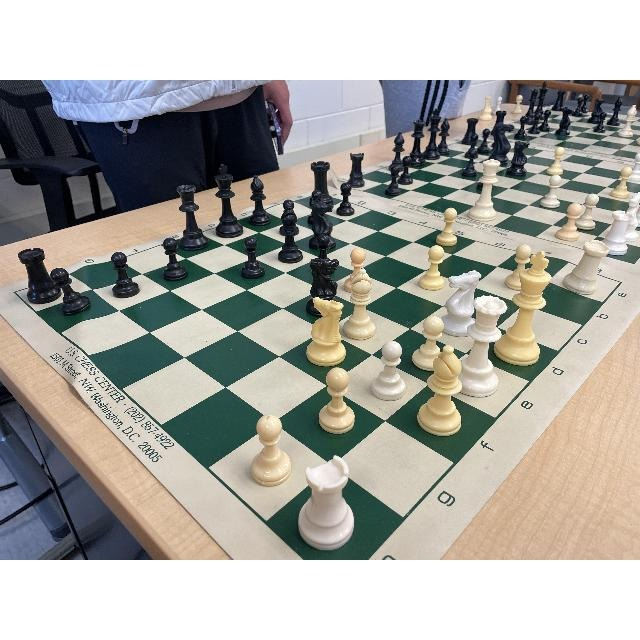black-bishop: (275, 199, 305, 264), (248, 173, 274, 228), (390, 131, 408, 173), (437, 115, 453, 157), (605, 95, 623, 127)
black-king: (212, 163, 246, 239), (422, 108, 442, 160), (537, 81, 547, 120)
black-knight: (303, 256, 343, 317), (305, 201, 337, 253), (488, 125, 516, 167), (506, 139, 530, 178), (554, 106, 575, 137), (588, 98, 606, 124)
black-pawn: (51, 267, 90, 317), (110, 251, 140, 299), (161, 236, 189, 284), (238, 234, 265, 280), (335, 181, 357, 217), (384, 163, 404, 196), (397, 155, 415, 185), (462, 148, 477, 178), (464, 132, 480, 159), (477, 128, 491, 154), (592, 111, 607, 133), (528, 111, 542, 134), (514, 117, 528, 139), (538, 110, 551, 132), (573, 97, 585, 117)
black-queen: (176, 182, 210, 251), (406, 118, 426, 166), (523, 90, 540, 124)
black-rook: (15, 245, 60, 305), (306, 160, 335, 211), (348, 151, 368, 188), (462, 118, 480, 145), (491, 110, 506, 138)
white-bishop: (415, 346, 465, 438), (342, 267, 377, 340), (618, 101, 639, 139)
white-king: (494, 250, 552, 367)
white-knight: (441, 270, 483, 336), (307, 298, 345, 366)
white-pawn: (252, 415, 292, 487), (318, 368, 356, 434), (371, 341, 407, 401), (412, 315, 444, 372), (418, 245, 445, 290), (344, 248, 370, 294), (507, 244, 533, 290), (557, 202, 582, 241), (575, 194, 599, 230), (436, 207, 458, 246), (609, 167, 632, 199), (541, 174, 561, 208), (546, 147, 565, 175), (630, 152, 640, 182)
white-queen: (454, 296, 507, 396), (468, 158, 500, 221)
white-rook: (298, 455, 354, 550), (562, 240, 610, 295), (600, 211, 633, 257), (616, 191, 639, 242)
